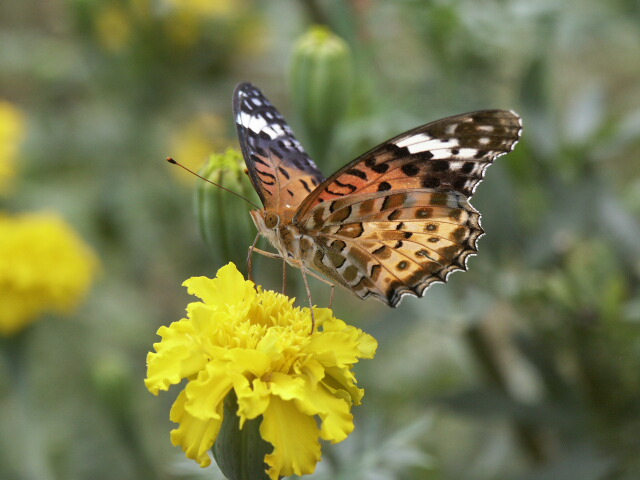Argyreus hyperbius: (161, 71, 526, 333)
butterfly: (163, 73, 528, 335)
